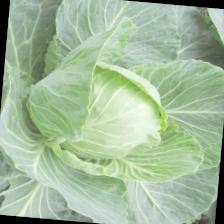cabbage: (19, 7, 224, 188)
